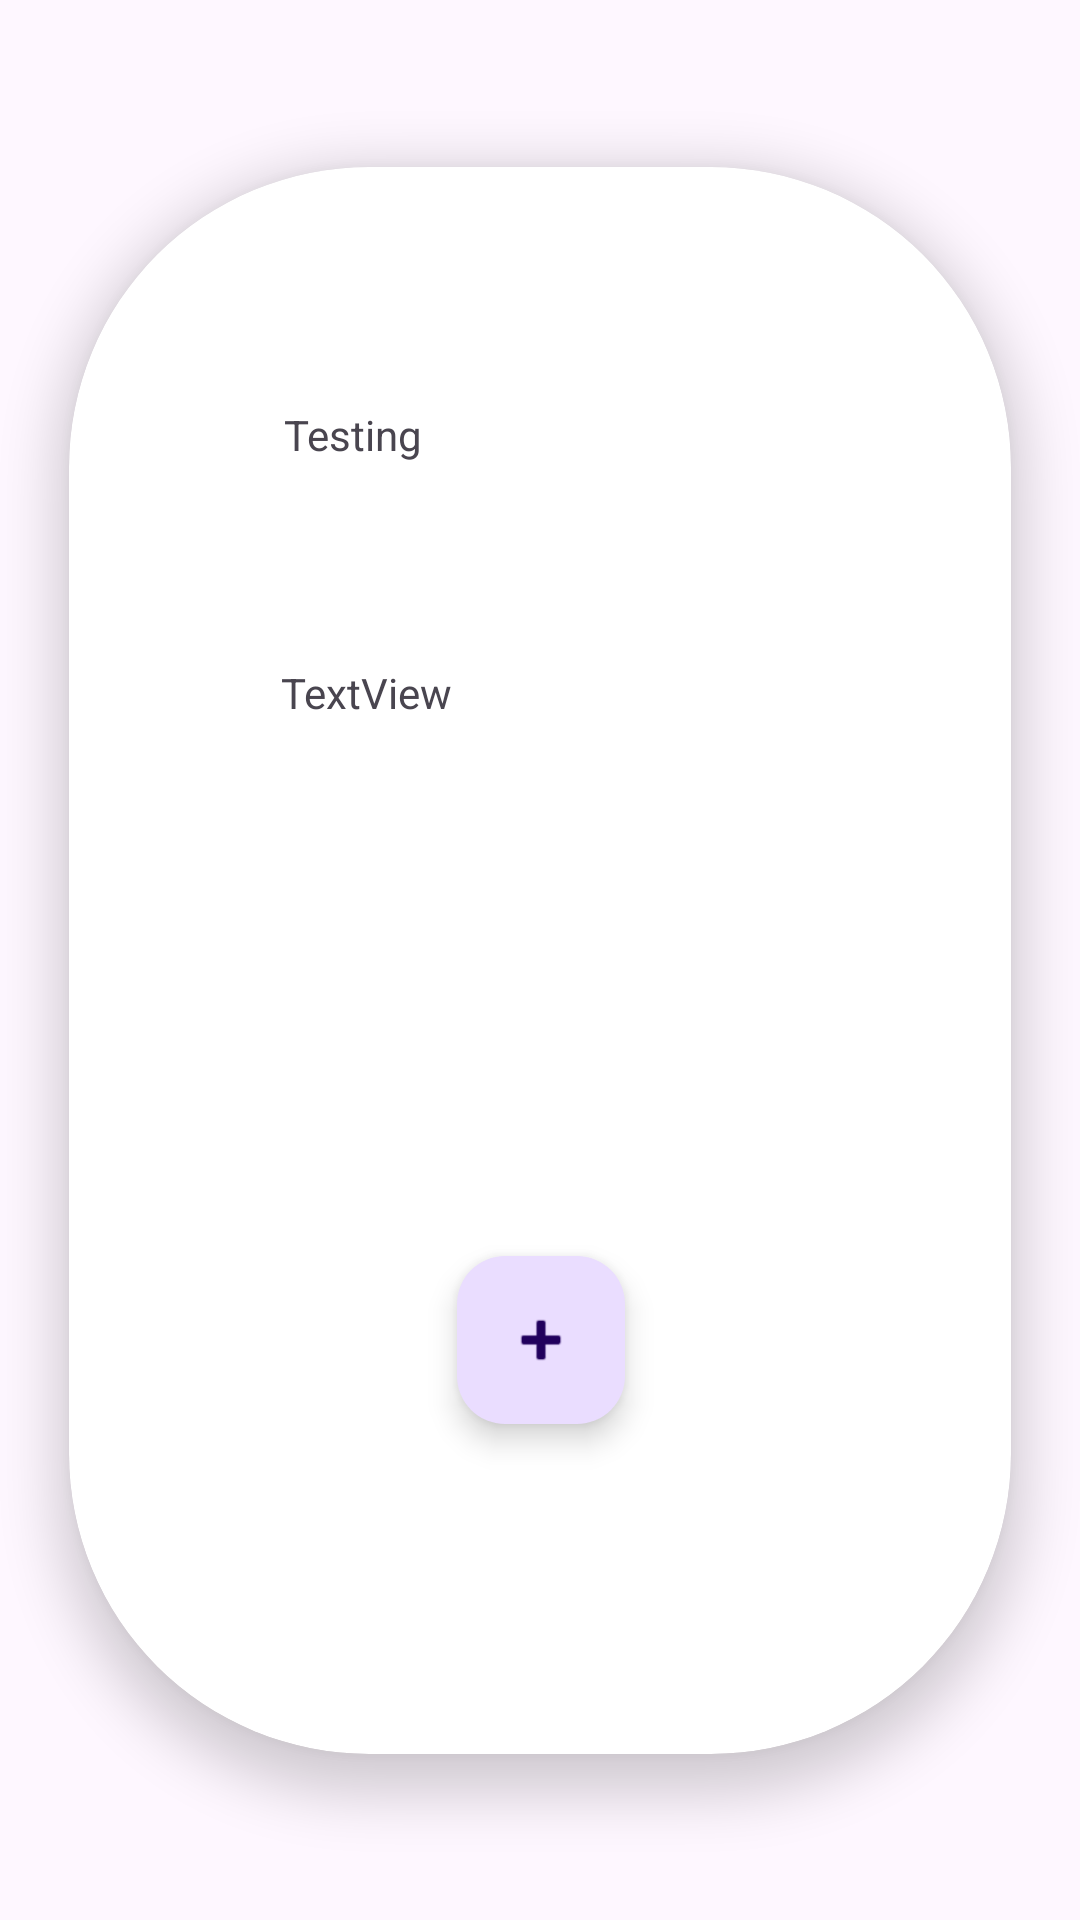

Screen size 1080w x 1920h. Icon name, then its center in pixels as (x=x, y=y):
add: (x=541, y=1340)
